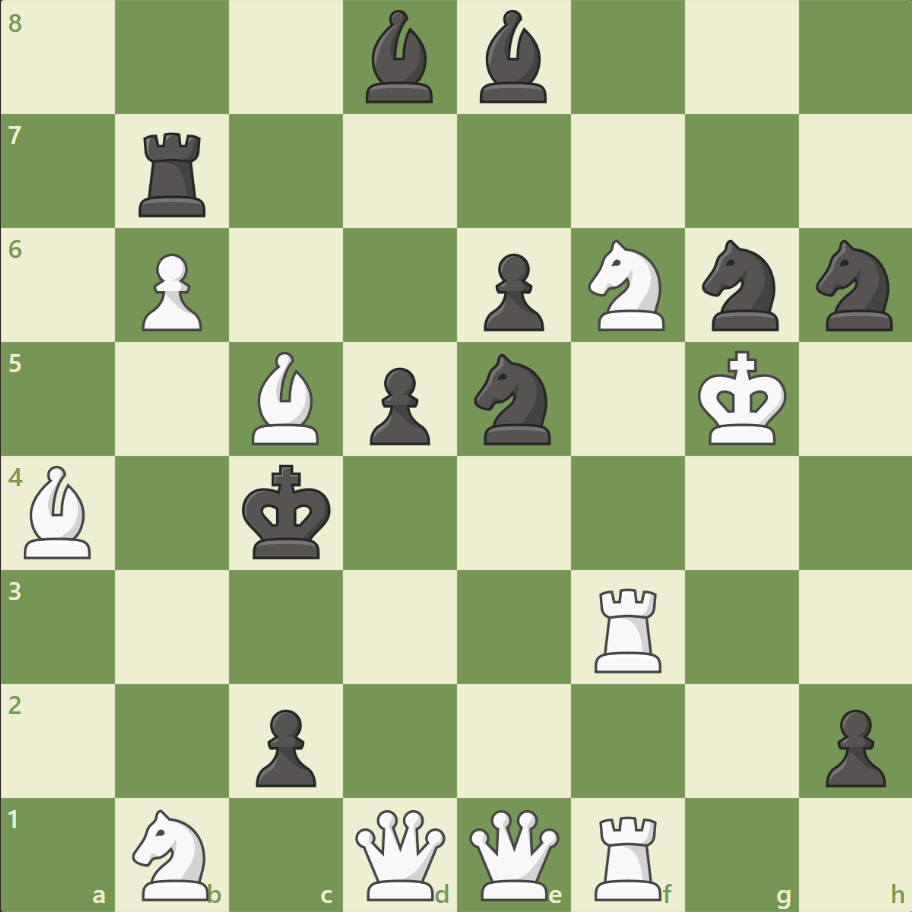B: (17, 460, 101, 563), (244, 347, 328, 449)
K: (692, 344, 792, 452)
N: (124, 802, 222, 904), (579, 234, 676, 337)
P: (133, 246, 208, 337)
Q: (351, 804, 450, 903), (464, 804, 563, 903)
R: (587, 806, 670, 904), (587, 579, 670, 676)
b: (358, 6, 442, 109), (471, 6, 555, 109)
k: (238, 458, 338, 566)
n: (692, 234, 789, 337), (806, 234, 903, 337), (465, 348, 562, 450)
p: (474, 246, 549, 337), (247, 700, 322, 791), (361, 359, 435, 450), (815, 700, 889, 791)
r: (133, 125, 215, 222)
